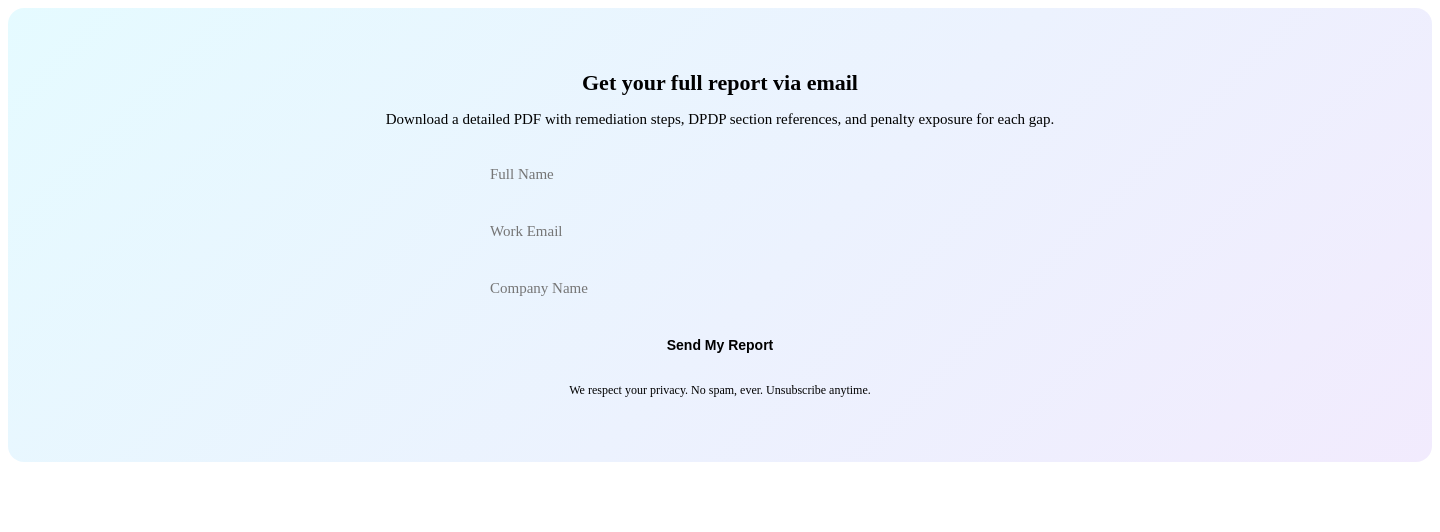
it: LeadCaptureForm › rejects the exact malformed email the original scanner's check accepted
Type "Asha Rao" into the field labelled "Full Name" at (720, 174), box [470,152,970,197]
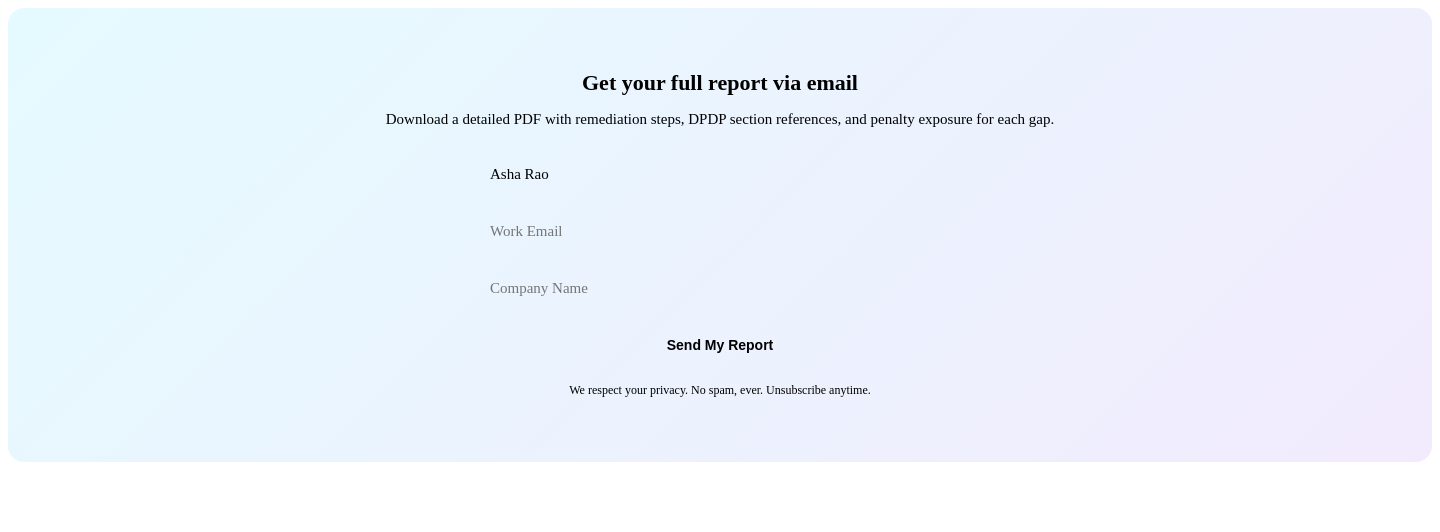
Type "@." into the field labelled "Work Email" at (720, 232), box [470,209,970,254]
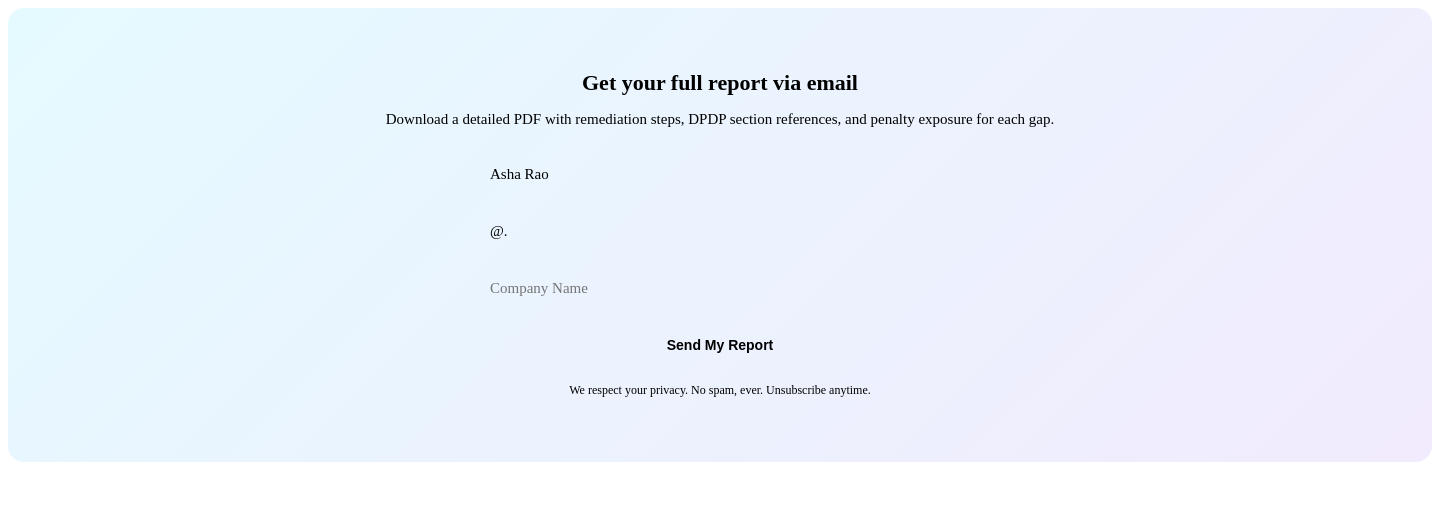
Type "Acme Fintech" into the field labelled "Company Name" at (720, 288), box [470,266,970,311]
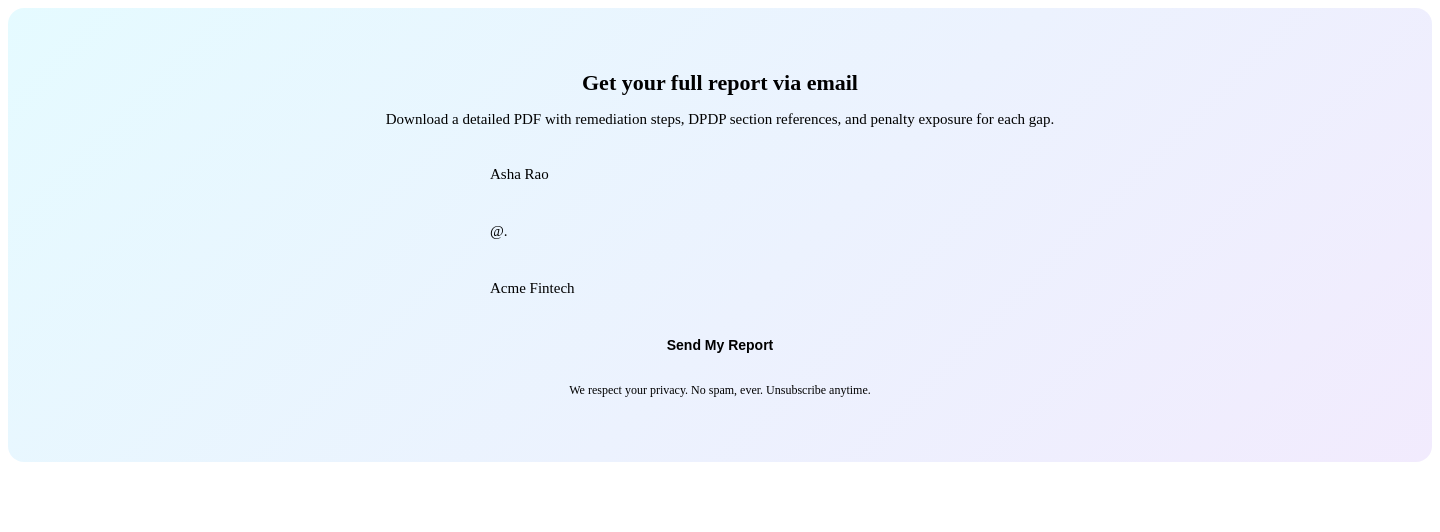
Click the button "Send My Report" at (720, 345), box [639,323,801,367]
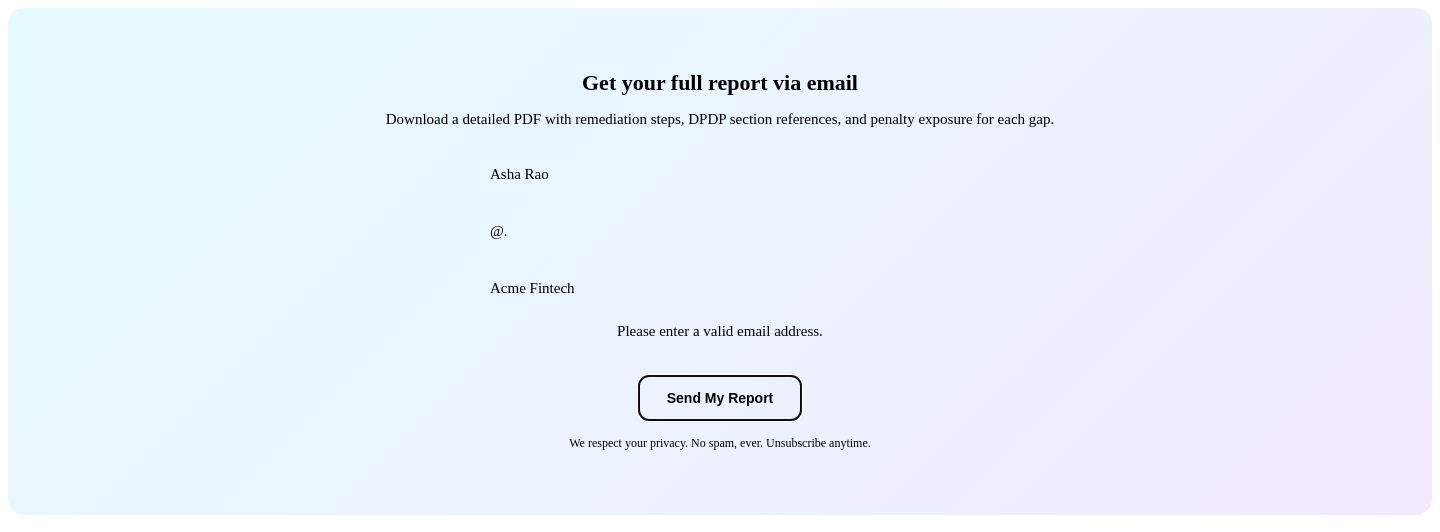
Now the message reads "Please enter a valid email address.", box [617,323,823,339]
